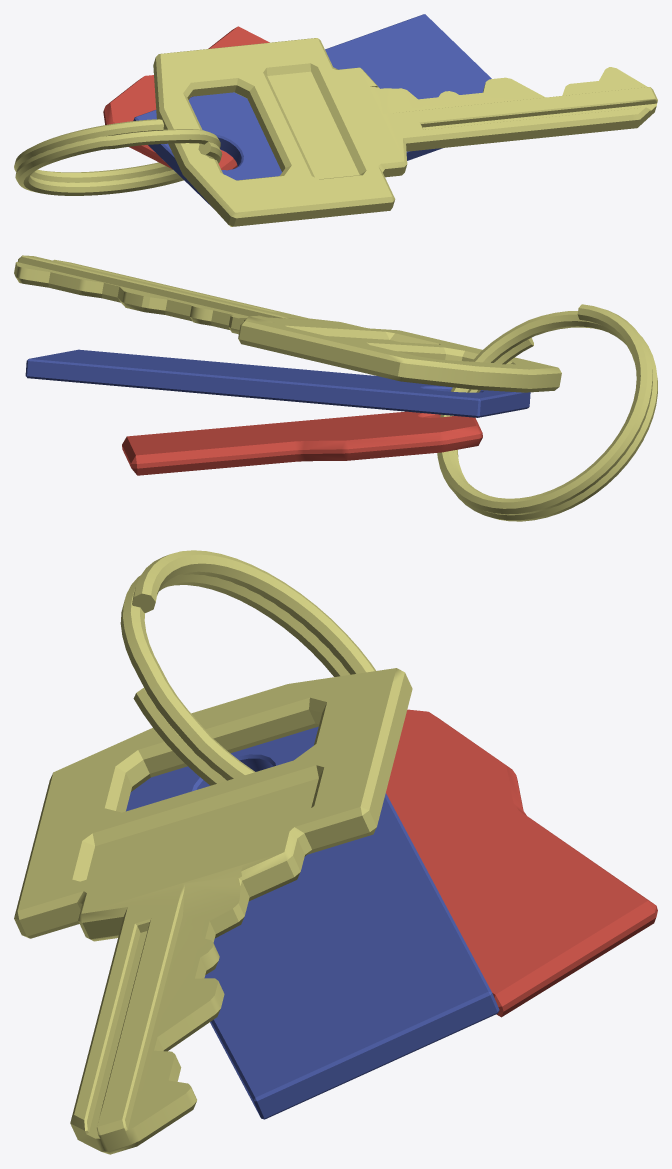
File: Keys.fbx
The picture shows the model from 3 angles, top to bottom: view 1: azimuth 30°, elevation 25°; view 2: azimuth 150°, elevation 25°; view 3: azimuth 270°, elevation 25°; orthographic projection. The views are drawn at different scales.
Visible parts, largest first — view 1: pasted__polySurface2, pasted__pasted__pCube9, pasted__polySurface1, pasted__pCube12; view 2: pasted__polySurface2, pasted__pasted__pCube9, pasted__pCube12, pasted__polySurface1; view 3: pasted__polySurface2, pasted__pasted__pCube9, pasted__pCube12, pasted__polySurface1.
Boxes of the visible parts, left/top/right/bottom form: pasted__polySurface2: left=153, top=38, right=657, bottom=226; pasted__pasted__pCube9: left=133, top=14, right=491, bottom=208; pasted__polySurface1: left=14, top=119, right=222, bottom=195; pasted__pCube12: left=103, top=26, right=269, bottom=170; pasted__polySurface2: left=14, top=255, right=561, bottom=392; pasted__pasted__pCube9: left=25, top=349, right=530, bottom=417; pasted__pCube12: left=122, top=411, right=482, bottom=475; pasted__polySurface1: left=437, top=304, right=657, bottom=521; pasted__polySurface2: left=14, top=668, right=412, bottom=1154; pasted__pasted__pCube9: left=126, top=726, right=499, bottom=1119; pasted__pCube12: left=386, top=709, right=657, bottom=1017; pasted__polySurface1: left=120, top=550, right=375, bottom=785.
Bounding box in the file's own units: 0.3609 × 0.078 × 0.2076.
